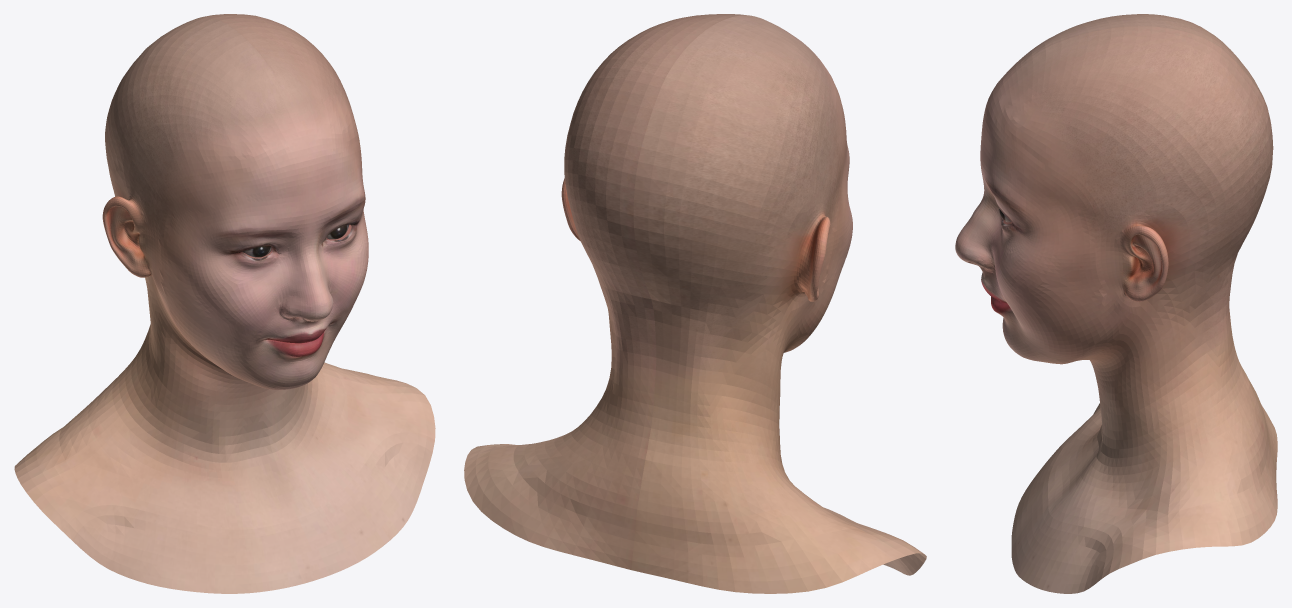
3 views of the same model, side by side, from view 1: azimuth 30°, elevation 25°; view 2: azimuth 150°, elevation 25°; view 3: azimuth 270°, elevation 25° (orthographic). The views are drawn at different scales.
Parts seen in each view (by area): view 1: head_lod0_mesh; view 2: head_lod0_mesh; view 3: head_lod0_mesh.
Part boxes in pixels (x1=…): head_lod0_mesh: x1=14, y1=14, x2=435, y2=593; head_lod0_mesh: x1=464, y1=14, x2=926, y2=593; head_lod0_mesh: x1=955, y1=14, x2=1277, y2=593.
Bounding box in the file's own units: 29.88 × 36.62 × 20.53.
5 materials, 4 textured.
